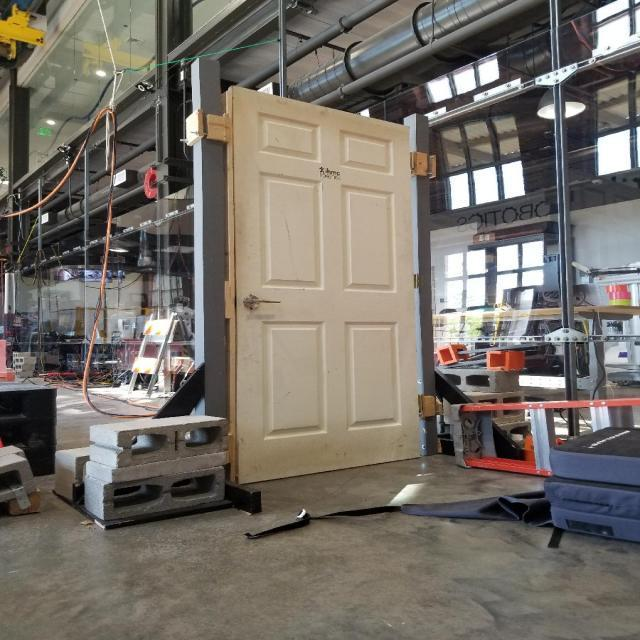door: (224, 82, 426, 488), (230, 292, 282, 309)
